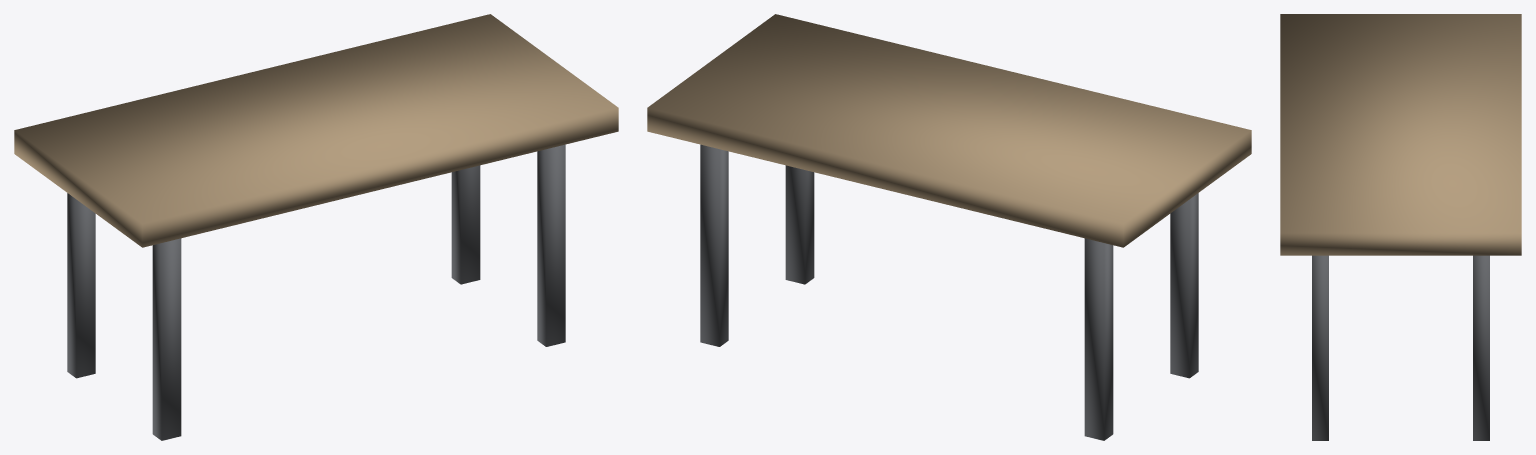
File: dining_table__wide.glb
3 renders of one model, left to right at view 1: azimuth 30°, elevation 25°; view 2: azimuth 150°, elevation 25°; view 3: azimuth 270°, elevation 25°, orthographic. The views are drawn at different scales.
Visible parts, largest first — view 1: world; view 2: world; view 3: world.
Part boxes in pixels (x1,y1,x2,y2): world: (14, 14, 618, 440); world: (647, 14, 1251, 440); world: (1280, 14, 1521, 440).
Size of the model in its own units: 1.67 by 0.8 by 0.78.
